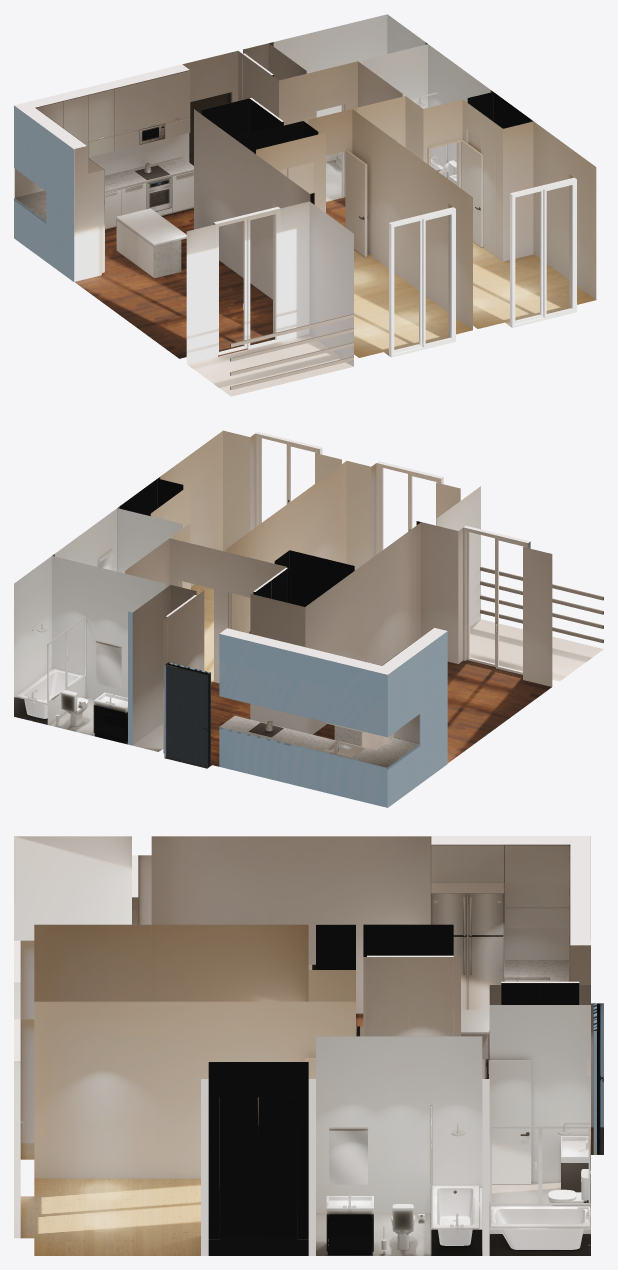
3 views of the same model, one above another, from view 1: azimuth 30°, elevation 25°; view 2: azimuth 150°, elevation 25°; view 3: azimuth 270°, elevation 25° (orthographic). The views are drawn at different scales.
Parts seen in each view (by area): view 1: walls, kitchen, ceiling, doors, bathrooms; view 2: walls, kitchen, doors, ceiling, bathrooms; view 3: walls, doors, kitchen, ceiling, bathrooms.
Boxes of the visible parts, bbox=[...] form: walls: bbox=[14, 14, 596, 366]; kitchen: bbox=[14, 64, 193, 281]; ceiling: bbox=[75, 160, 595, 396]; doors: bbox=[189, 53, 576, 389]; bathrooms: bbox=[306, 72, 456, 184]; walls: bbox=[14, 430, 552, 757]; kitchen: bbox=[219, 628, 447, 807]; doors: bbox=[165, 431, 603, 766]; ceiling: bbox=[14, 584, 603, 768]; bathrooms: bbox=[14, 549, 127, 743]; walls: bbox=[14, 836, 603, 1255]; doors: bbox=[14, 855, 603, 1238]; kitchen: bbox=[431, 836, 590, 1059]; ceiling: bbox=[20, 1013, 603, 1255]; bathrooms: bbox=[326, 1059, 590, 1255].
Size of the model in its own units: 8.82 by 3 by 9.06.
Materials: 5 (5 with a texture image).
